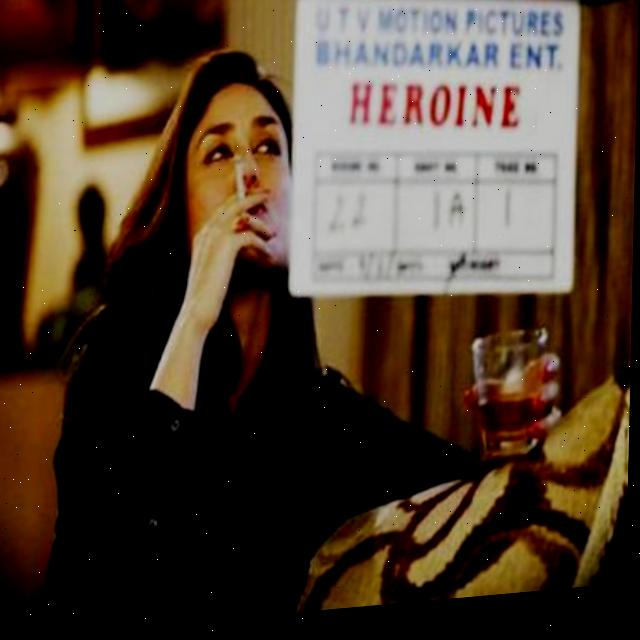cigarette: (234, 158, 249, 211)
